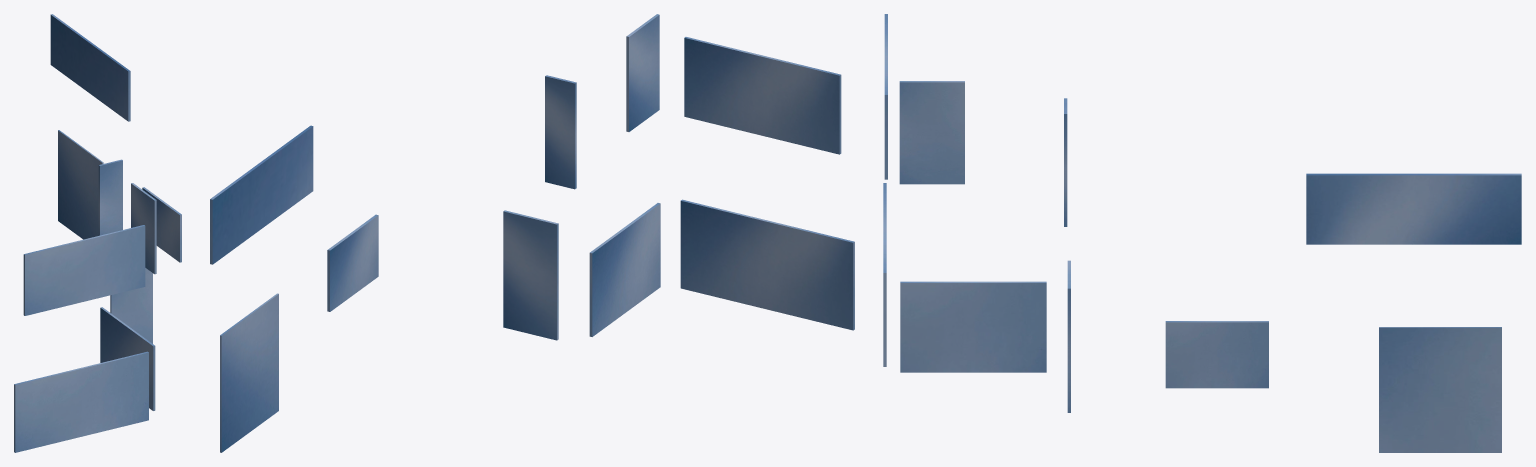
Rendered from vidrios.obj.
3 renders of one model, left to right at view 1: azimuth 30°, elevation 25°; view 2: azimuth 150°, elevation 25°; view 3: azimuth 270°, elevation 25°, orthographic. The views are drawn at different scales.
Visible parts, largest first — view 1: vidrios:polySurface83; view 2: vidrios:polySurface83; view 3: vidrios:polySurface83.
Boxes of the visible parts, <box> form: vidrios:polySurface83: <box>14,14,181,452</box>; vidrios:polySurface83: <box>210,14,854,452</box>; vidrios:polySurface83: <box>883,14,1521,452</box>.
Size of the model in its own units: 10.83 by 8.18 by 16.11.
